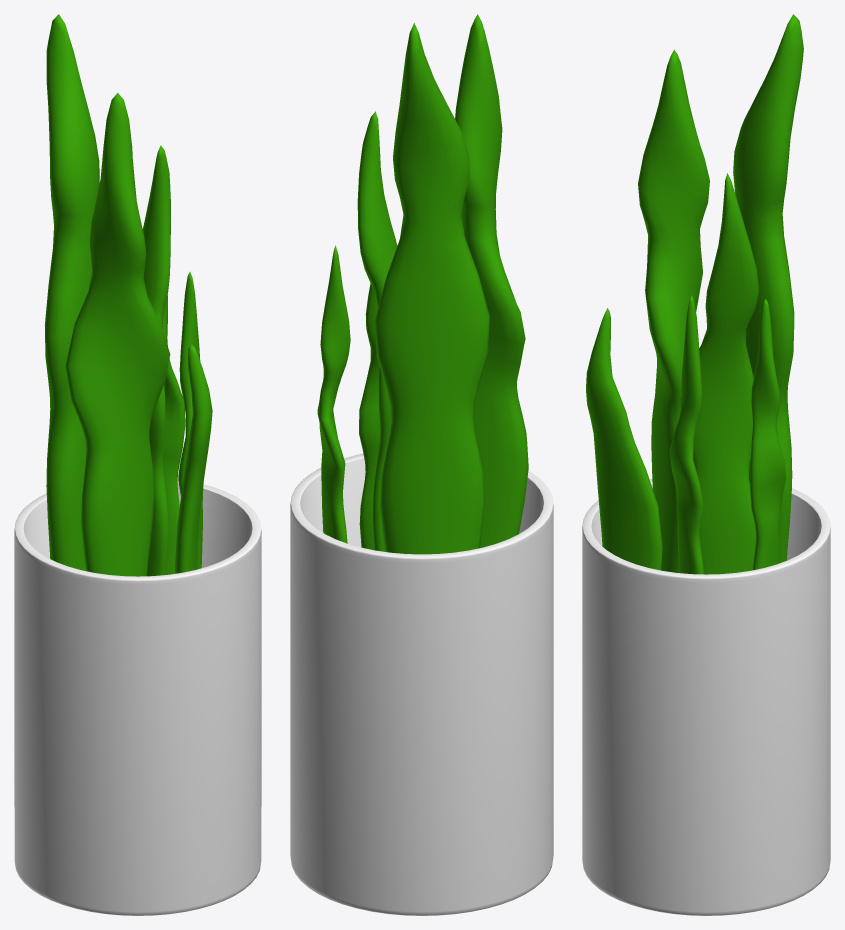
Rendered from TallPlants.fbx.
3 views of the same model, side by side, from view 1: azimuth 30°, elevation 25°; view 2: azimuth 150°, elevation 25°; view 3: azimuth 270°, elevation 25° (orthographic). The views are drawn at different scales.
Visible parts, largest first — view 1: Plane.001; view 2: Plane.001; view 3: Plane.001.
Boxes of the visible parts, x1,y1,x2,y2 form: Plane.001: (14, 14, 261, 915); Plane.001: (290, 14, 553, 915); Plane.001: (582, 14, 830, 915).
Size of the model in its own units: 134 by 494 by 134.
